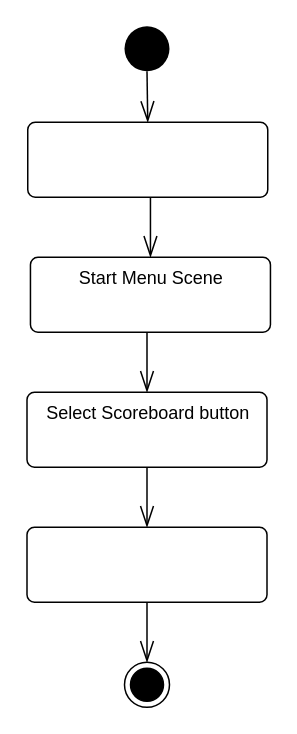
The diagram is 297 pixels wide and 734 high, and some of its shapes have lost their labels. The centre of each missing label's shape, as x and y in pixels:
Display list with ranked runs: the point at 146,564
Start Preload Scene: the point at 147,159
